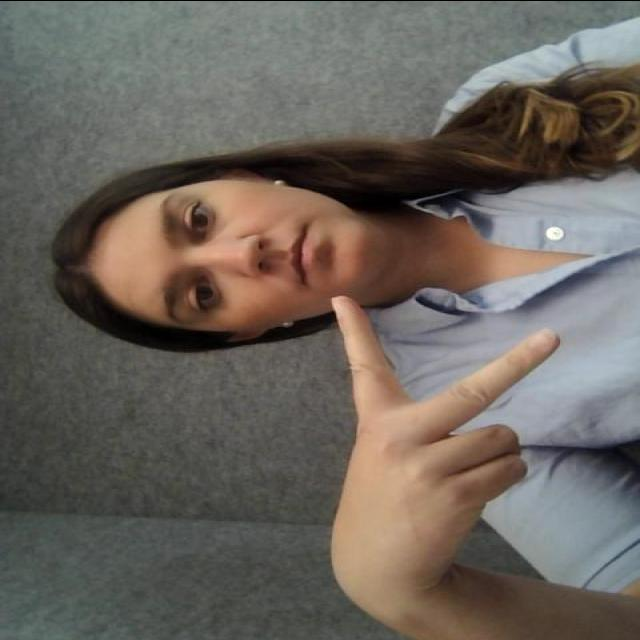Scissors: (304, 280, 554, 582)
